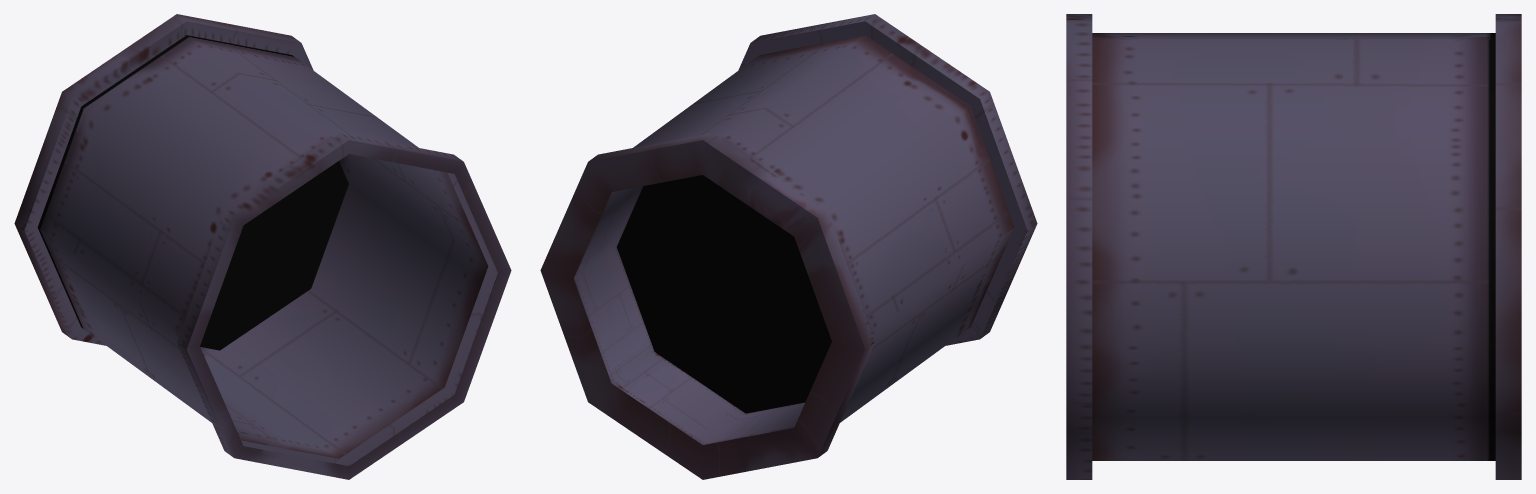
File: Deco_Pipe.glb
3 renders of one model, left to right at view 1: azimuth 30°, elevation 25°; view 2: azimuth 150°, elevation 25°; view 3: azimuth 270°, elevation 25°, orthographic. The views are drawn at different scales.
Visible parts, largest first — view 1: Deco_Pipe; view 2: Deco_Pipe; view 3: Deco_Pipe.
Part boxes in pixels (x1,y1,x2,y2): Deco_Pipe: (14, 14, 511, 479); Deco_Pipe: (540, 14, 1037, 479); Deco_Pipe: (1066, 14, 1521, 479).
Bounding box in the file's own units: 2.18 × 2.18 × 2.
1 material, 1 textured.
